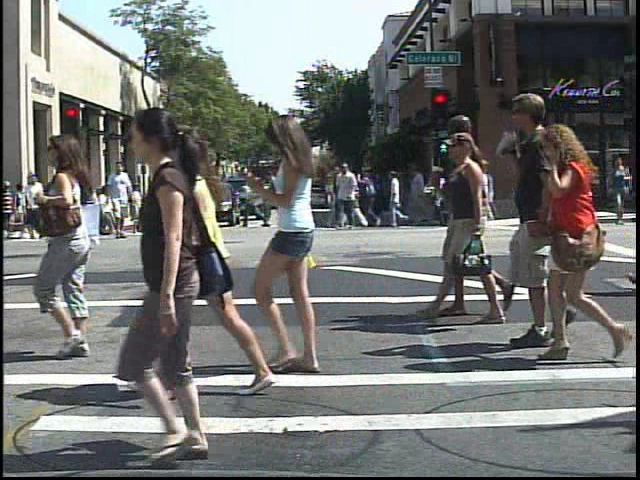person: (94, 101, 263, 469), (157, 118, 292, 399), (470, 82, 571, 353), (23, 129, 126, 365), (539, 125, 638, 365), (257, 110, 346, 374), (105, 161, 139, 242), (59, 163, 90, 242), (470, 157, 501, 230), (22, 169, 48, 242), (3, 173, 18, 240), (98, 179, 118, 223)
